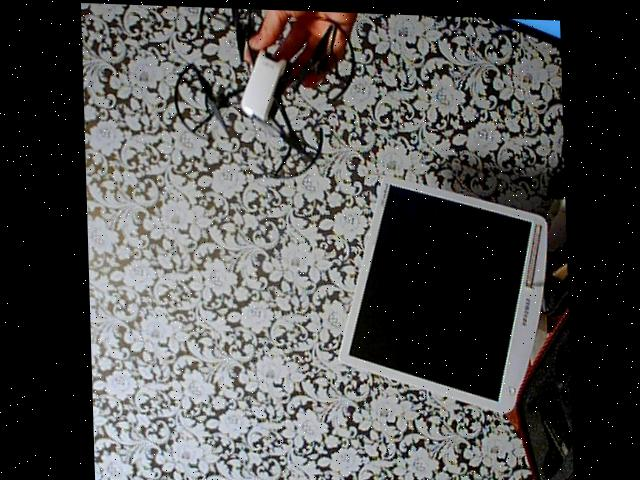drone: (160, 5, 361, 180)
